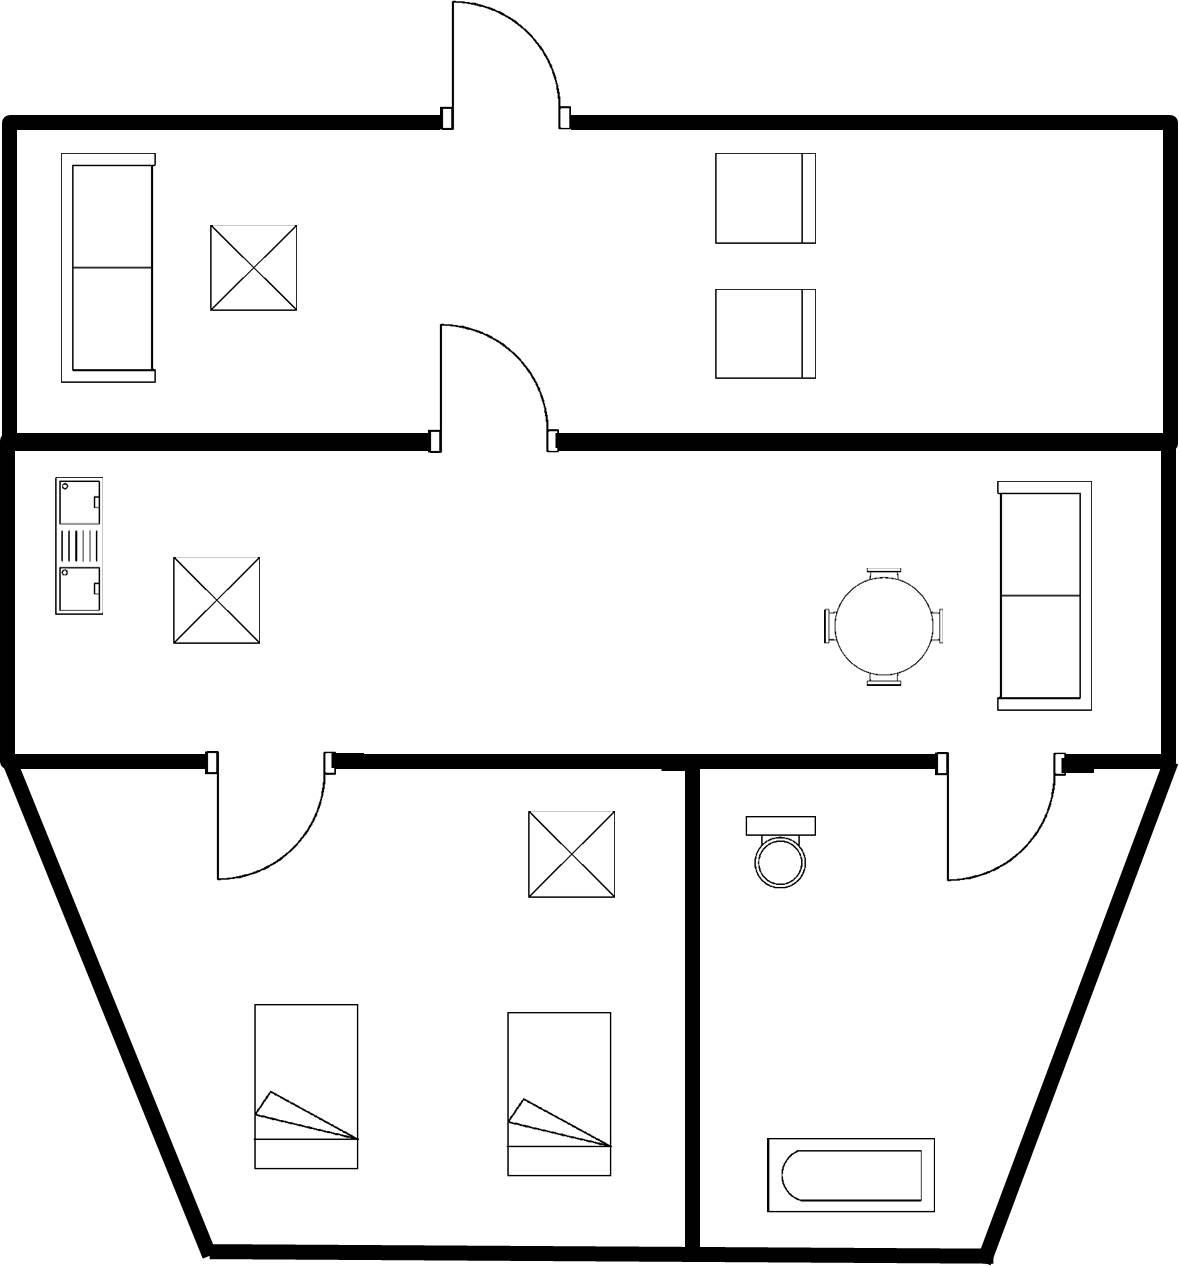sink: (43, 469, 109, 620)
